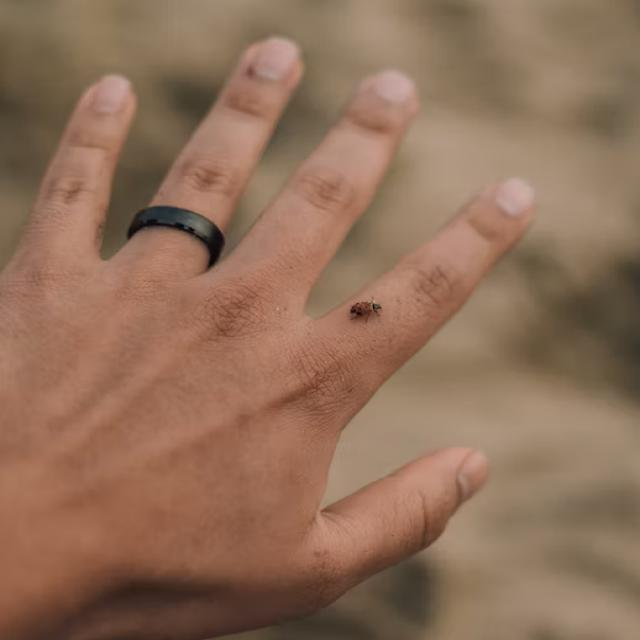Nail: (251, 37, 299, 80), (91, 74, 130, 117), (457, 451, 488, 504), (495, 177, 535, 217), (376, 69, 416, 101)
